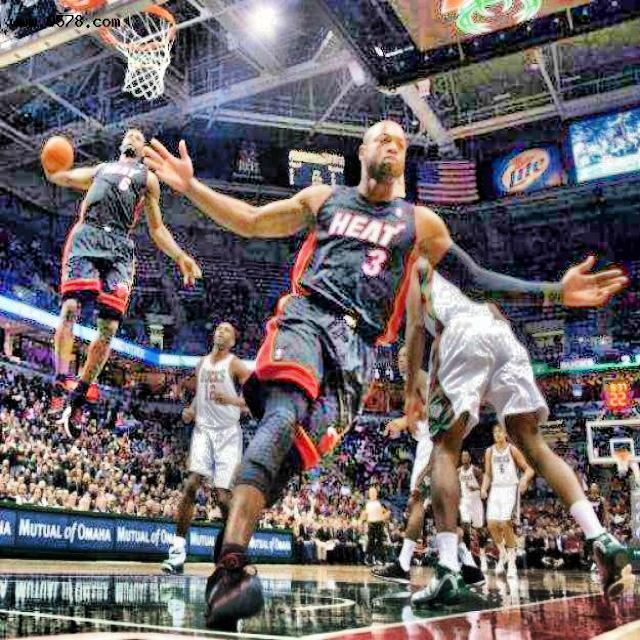rim: (97, 6, 179, 100)
